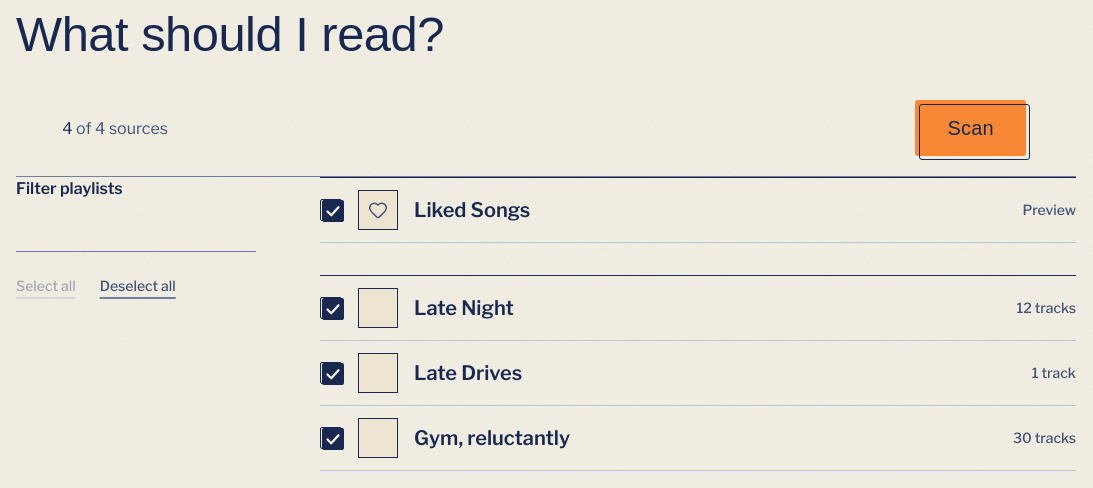
Scenario: /scope Scan › drops the save failure once the choice changes
Click the button "Scan": (971, 128) [916,100,1026,156]
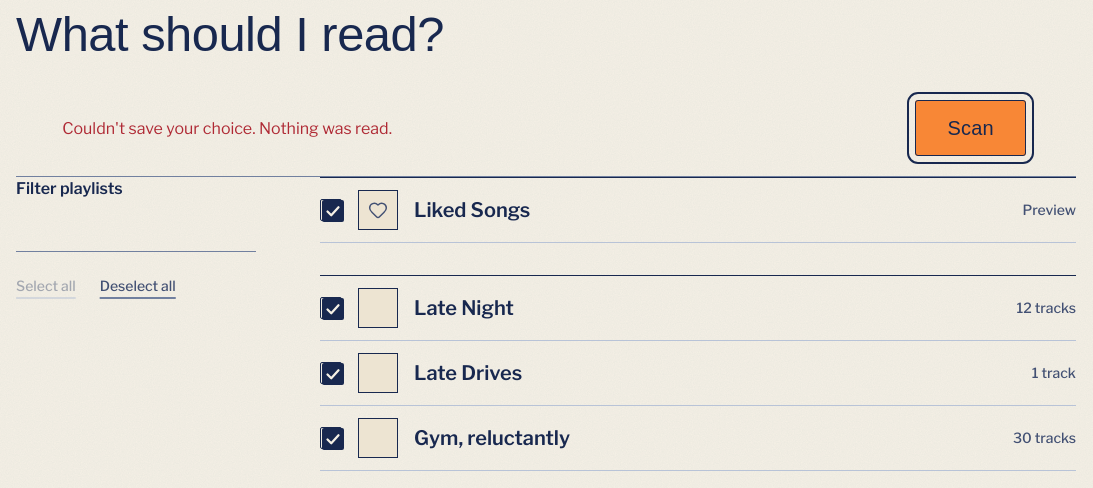
Expected: the text "Couldn't save your choice. Nothing was read." is shown, [62,119,392,138]
Click the checkbox labelled "Late Drives": (421, 373) [320,353,522,393]
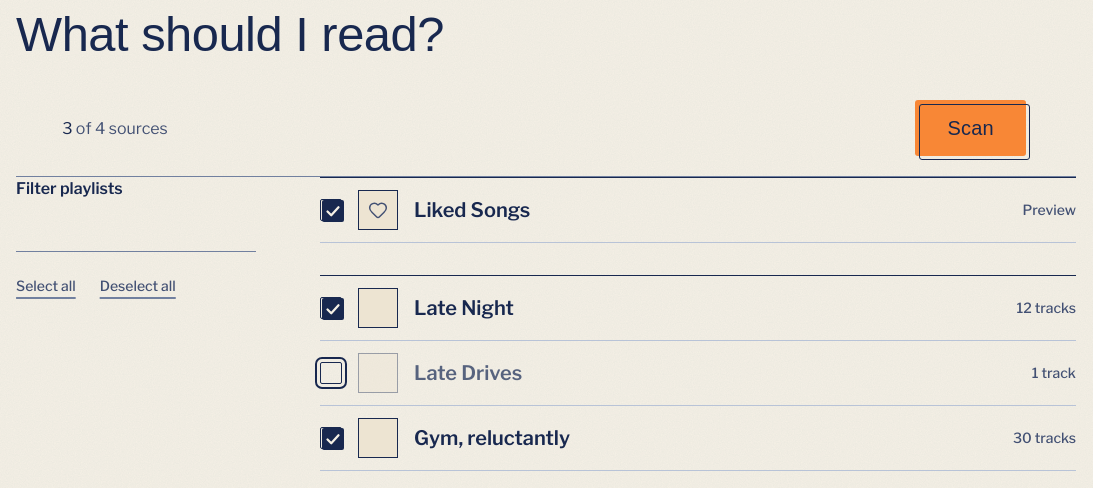
Expected: the message reads "3 of 4 sources", [62,119,168,138]
Click the button "Scan": (971, 128) [916,100,1026,156]
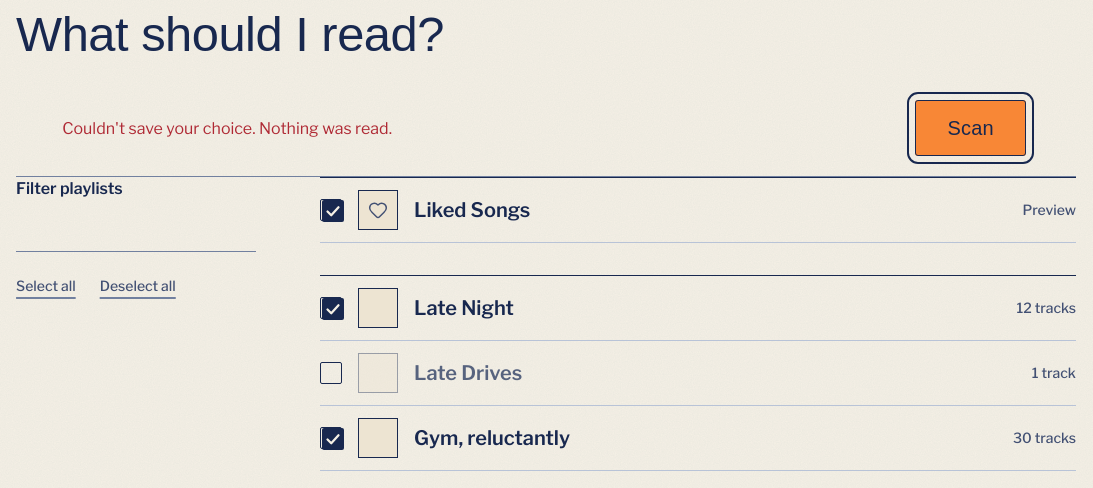
Expected: the text "Couldn't save your choice. Nothing was read." is shown, [62,119,392,138]
Click the button "Deselect all": (138, 286) [100,264,176,308]
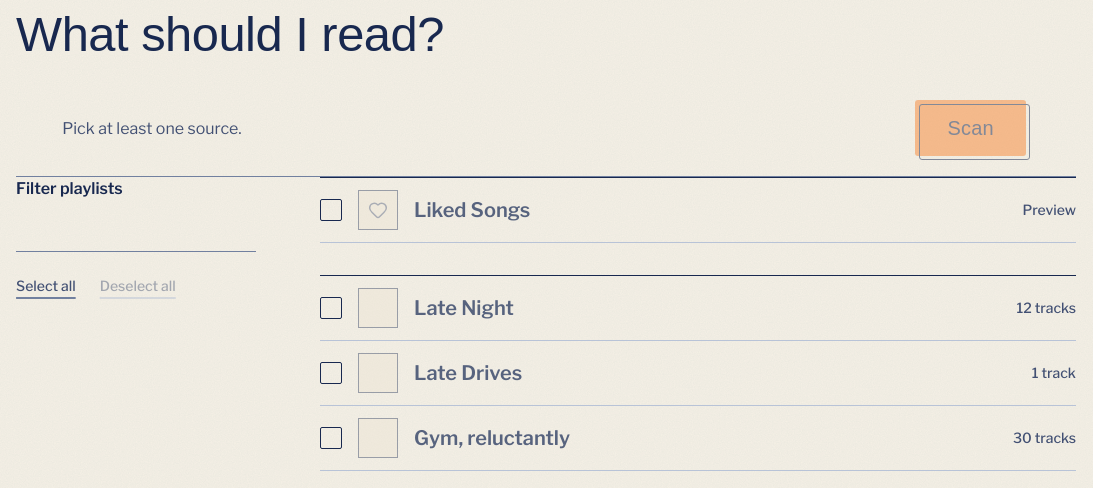
Expected: the message reads "Pick at least one source.", [62,119,242,138]
